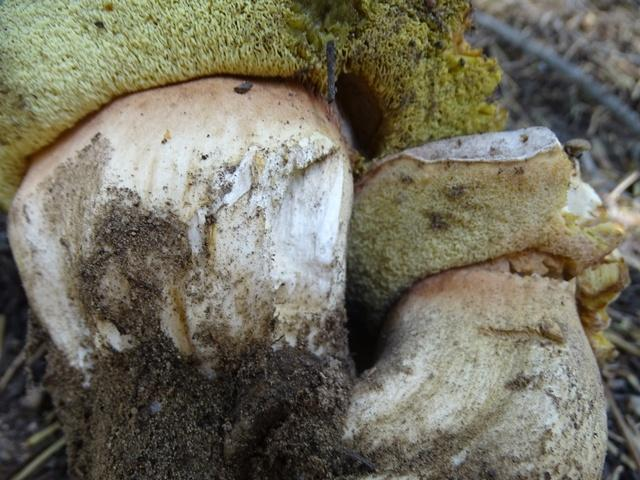Edible Mushroom: (1, 0, 628, 478), (5, 73, 361, 479)
